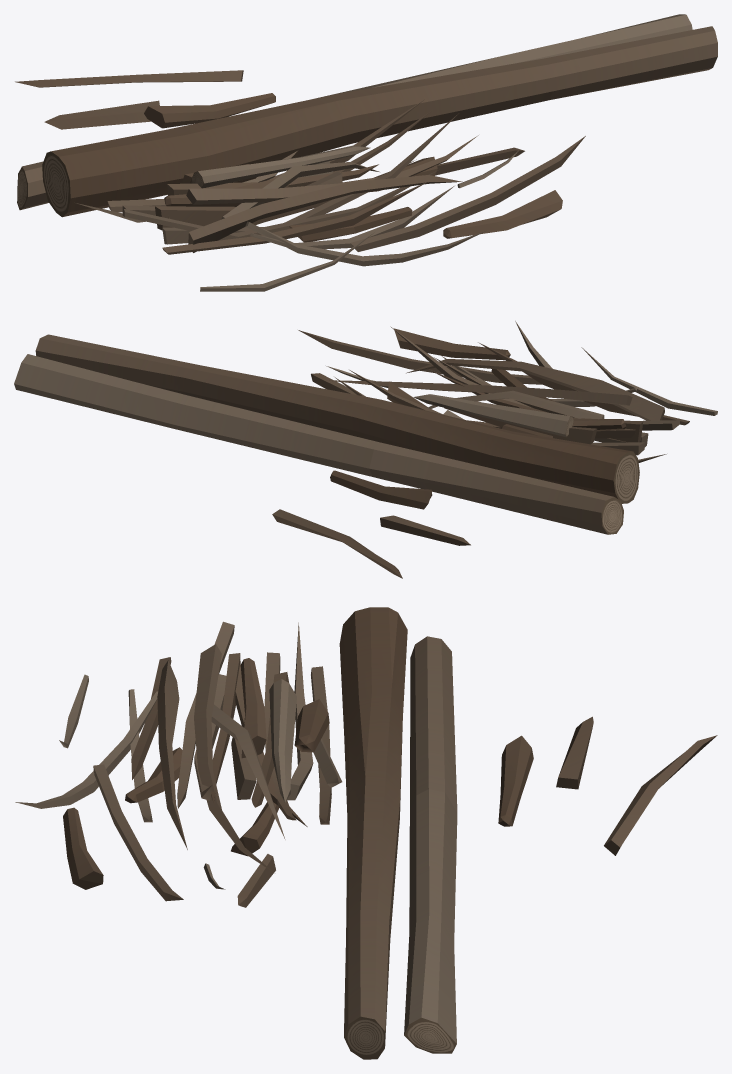
File: PT_Pine_Tree_03_logs.fbx
3 views of the same model, one above another, from view 1: azimuth 30°, elevation 25°; view 2: azimuth 150°, elevation 25°; view 3: azimuth 270°, elevation 25° (orthographic). The views are drawn at different scales.
Parts seen in each view (by area): view 1: PT_Pine_Tree_03_logs; view 2: PT_Pine_Tree_03_logs; view 3: PT_Pine_Tree_03_logs.
Boxes of the visible parts, box(x1,y1,x2,y2) form: PT_Pine_Tree_03_logs: box(15, 14, 717, 291); PT_Pine_Tree_03_logs: box(14, 321, 717, 578); PT_Pine_Tree_03_logs: box(15, 607, 717, 1059).
Size of the model in its own units: 368 by 43.46 by 284.
